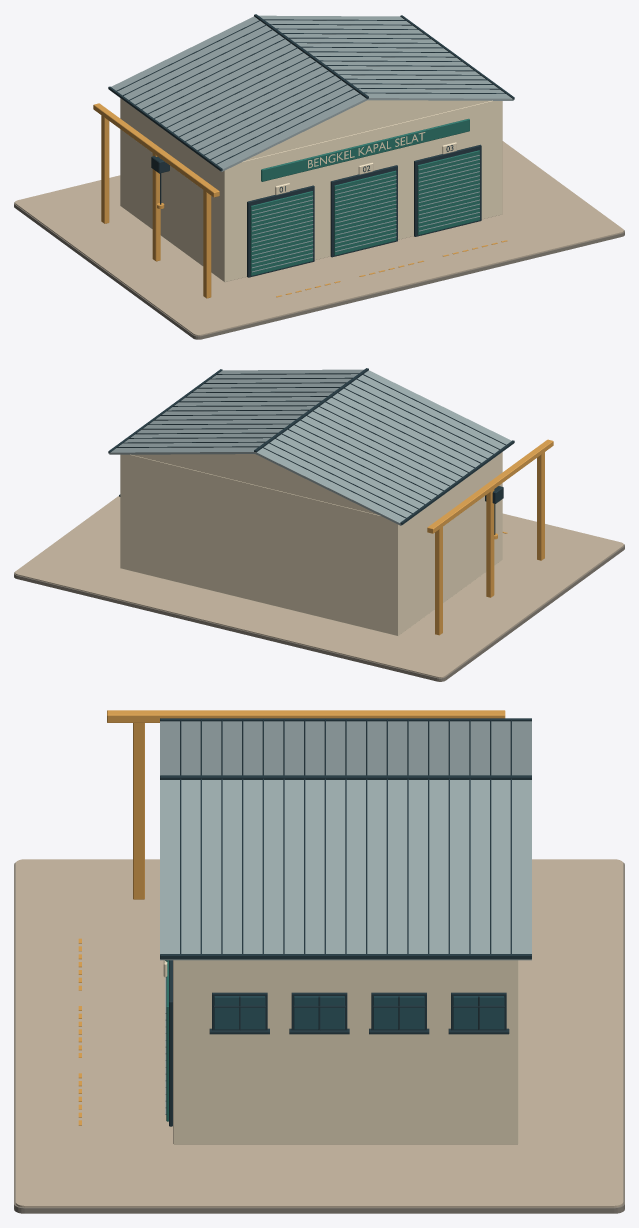
The picture shows the model from 3 angles, top to bottom: view 1: azimuth 30°, elevation 25°; view 2: azimuth 150°, elevation 25°; view 3: azimuth 270°, elevation 25°; orthographic projection. The views are drawn at different scales.
Parts seen in each view (by area): view 1: Repair Hall, Dock Apron, Crane Rail; view 2: Repair Hall, Dock Apron, Crane Rail; view 3: Repair Hall, Dock Apron, Crane Rail.
Boxes of the visible parts, left/top/right/bottom form: Repair Hall: left=108, top=14, right=514, bottom=281; Dock Apron: left=14, top=141, right=624, bottom=339; Crane Rail: left=93, top=103, right=219, bottom=298; Repair Hall: left=108, top=368, right=514, bottom=635; Dock Apron: left=14, top=496, right=624, bottom=681; Crane Rail: left=427, top=439, right=553, bottom=635; Repair Hall: left=160, top=718, right=531, bottom=1144; Dock Apron: left=14, top=859, right=624, bottom=1213; Crane Rail: left=107, top=710, right=505, bottom=899.
Size of the model in its own units: 31 by 10.94 by 23.
